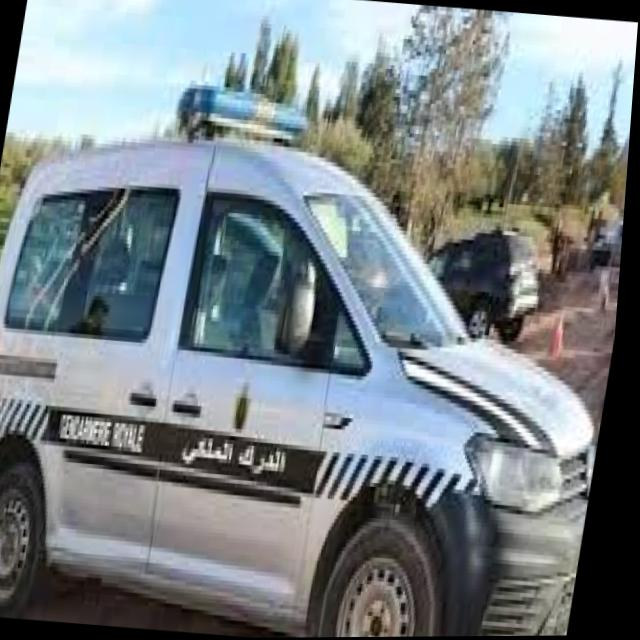gendarme car: (0, 53, 594, 639)
